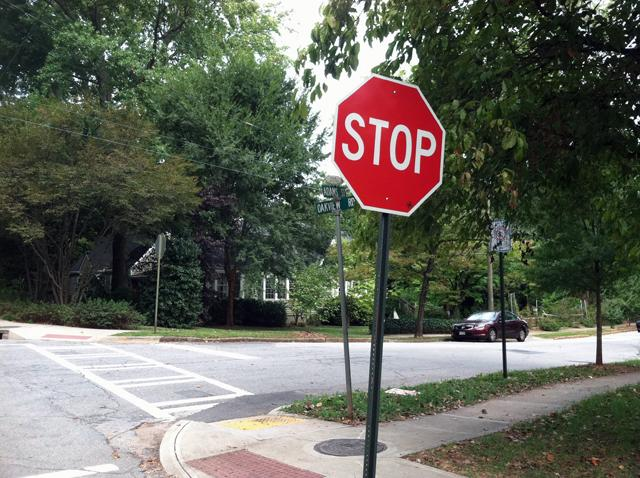Pole: (360, 221, 393, 472), (498, 255, 509, 377), (152, 260, 161, 335)
Sign: (333, 70, 449, 218), (154, 234, 168, 259)
